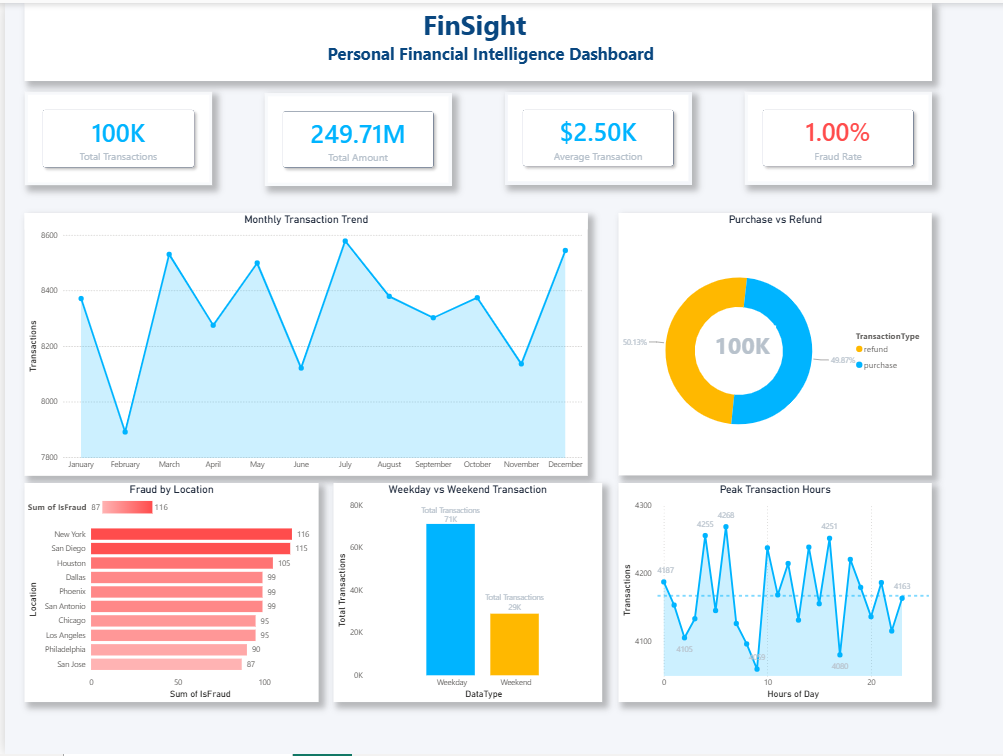

This screenshot's page, from the dashboard's own definition file:
{"tool":"powerbi","page":{"name":"executive dashboard","canvas":[1600,1200],"ordinal":0},"visuals":[{"type":"textbox","box":[31.2,0,1450.1,124.6],"z":0},{"type":"cardVisual","fields":{"Data":["cleaned_transaction.Total Transactions"]},"box":[30.3,140.8,300,150],"z":1000},{"type":"cardVisual","fields":{"Data":["cleaned_transaction.Total Amount"]},"box":[414.3,143.8,299.6,148.6],"z":2000},{"type":"cardVisual","fields":{"Data":["cleaned_transaction.Fraud Rate"]},"box":[1181.6,141.4,299.6,148.6],"z":3000},{"type":"cardVisual","fields":{"Data":["cleaned_transaction.Average Transaction"]},"box":[798,141.4,299.6,148.6],"z":4000},{"type":"lineChart","title":"Monthly Transaction Trend","fields":{"Category":["cleaned_transaction.MonthName"],"Y":["cleaned_transaction.Total Transactions"]},"box":[30.3,335.6,900,420],"z":5000},{"type":"donutChart","title":"Purchase vs Refund","fields":{"Category":["cleaned_transaction.TransactionType"],"Y":["cleaned_transaction.Total Transactions"]},"box":[980.3,335.6,500.9,419.4],"z":6000},{"type":"clusteredBarChart","title":"Fraud by Location","fields":{"Category":["cleaned_transaction.Location"],"Y":["Sum(cleaned_transaction.IsFraud)"]},"box":[30,766,470,350],"z":7000},{"type":"clusteredColumnChart","title":"Weekday vs Weekend Transaction","fields":{"Category":["cleaned_transaction.DataType"],"Y":["cleaned_transaction.Total Transactions"]},"box":[525.6,766,429,349.9],"z":8000},{"type":"lineChart","title":"Peak Transaction Hours","fields":{"Category":["cleaned_transaction.hour"],"Y":["cleaned_transaction.Total Transactions"]},"box":[980.3,766,500.9,349.9],"z":9000},{"type":"textbox","box":[1124.1,515.3,107.9,62.3],"z":10000}]}

Visuals, with their boxes in screenshot pixels (x1, y1, x2, y2), scaled from the page's 1600x1200 canvas onto the 1003x756 screenshot:
textbox: <box>20,0,929,78</box>
cardVisual - cleaned_transaction.Total Transactions: <box>19,89,207,183</box>
cardVisual - cleaned_transaction.Total Amount: <box>260,91,448,184</box>
cardVisual - cleaned_transaction.Fraud Rate: <box>741,89,929,183</box>
cardVisual - cleaned_transaction.Average Transaction: <box>500,89,688,183</box>
"Monthly Transaction Trend" lineChart: <box>19,211,583,476</box>
"Purchase vs Refund" donutChart: <box>615,211,929,476</box>
"Fraud by Location" clusteredBarChart: <box>19,483,313,703</box>
"Weekday vs Weekend Transaction" clusteredColumnChart: <box>329,483,598,703</box>
"Peak Transaction Hours" lineChart: <box>615,483,929,703</box>
textbox: <box>705,325,772,364</box>
